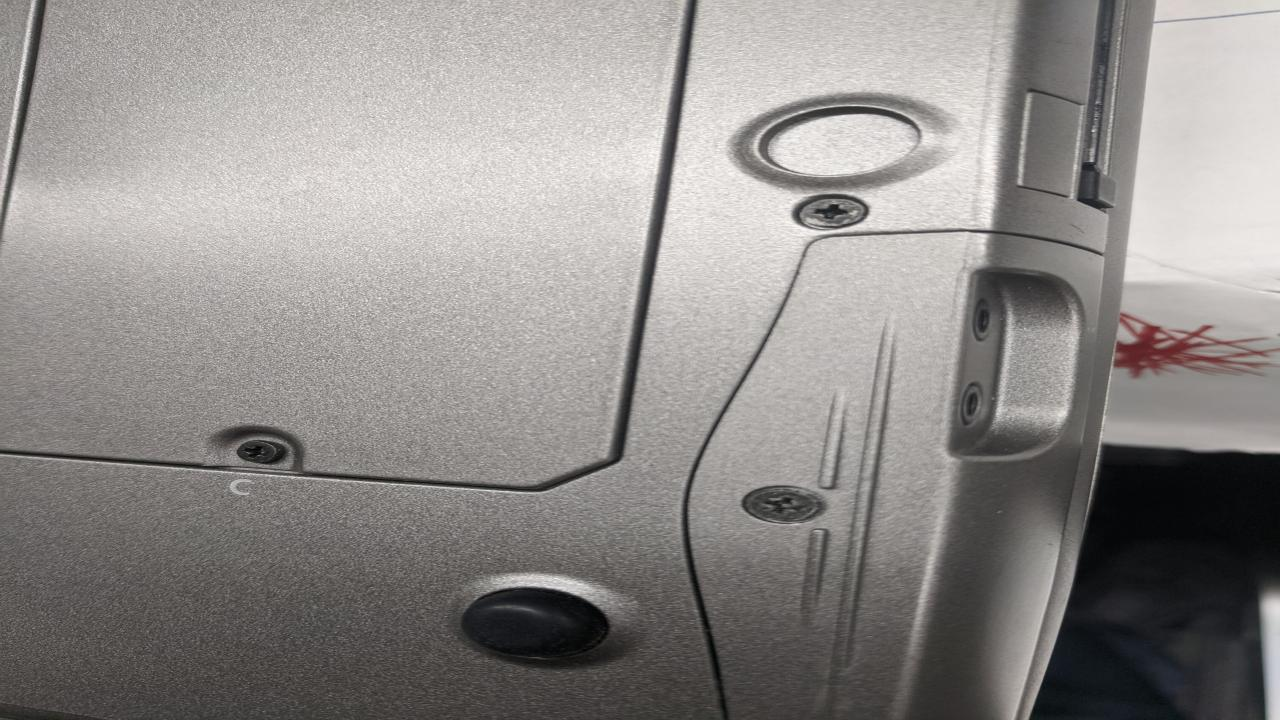CRS: (745, 485, 829, 524), (802, 193, 869, 229), (231, 439, 289, 465)
